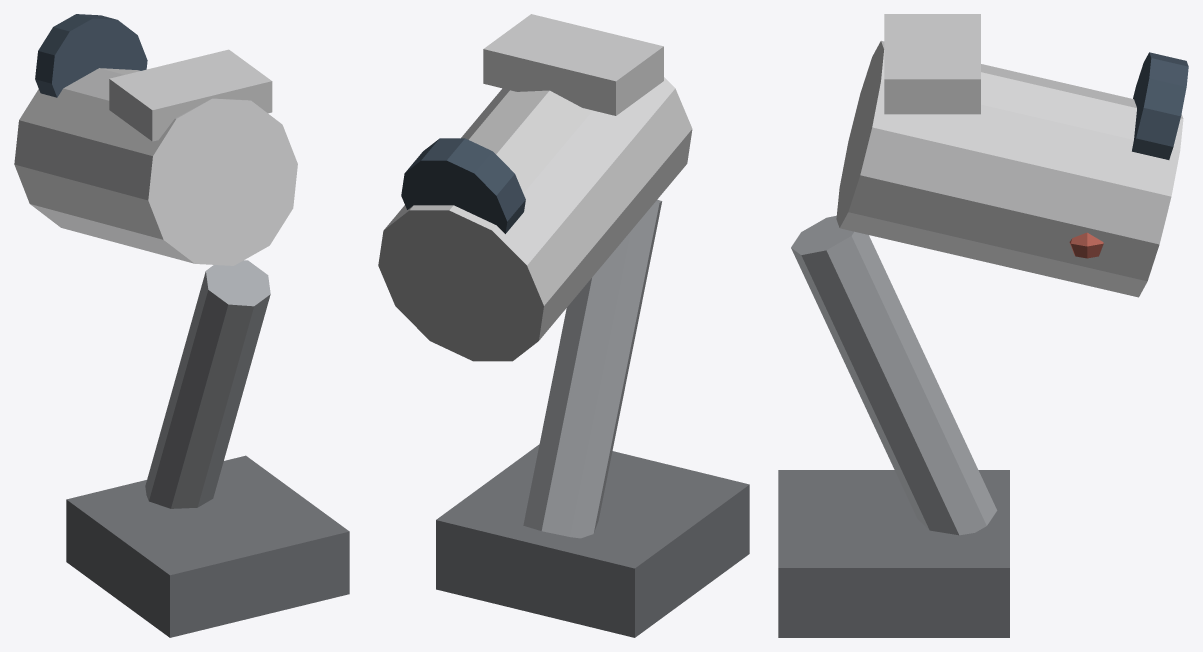
Rendered from eld_camera.glb.
The picture shows the model from 3 angles, left to right: view 1: azimuth 30°, elevation 25°; view 2: azimuth 150°, elevation 25°; view 3: azimuth 270°, elevation 25°; orthographic projection. The views are drawn at different scales.
Parts seen in each view (by area): view 1: ELD_CAMERA_v01; view 2: ELD_CAMERA_v01; view 3: ELD_CAMERA_v01.
Boxes of the visible parts, x1,y1,x2,y2 form: ELD_CAMERA_v01: [14, 14, 349, 637]; ELD_CAMERA_v01: [378, 14, 749, 637]; ELD_CAMERA_v01: [778, 14, 1188, 637].
Size of the model in its own units: 0.12 by 0.31 by 0.2126.
